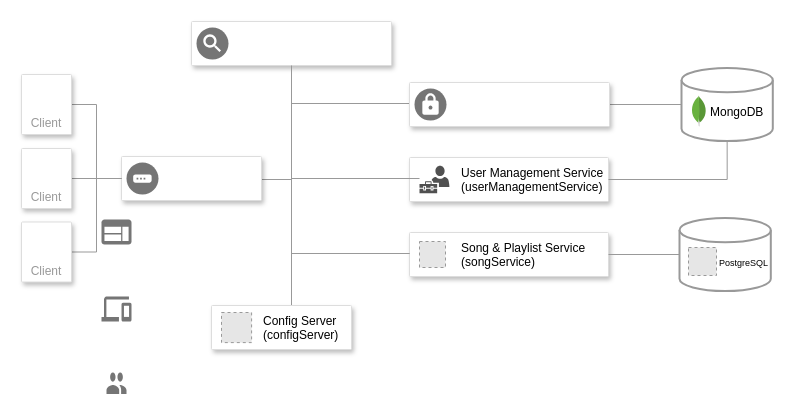
The diagram is 791 pixels wide and 412 high, and some of its shapes have lost their labels. Grey dashed boxes stand in for pictures. The centre of each missing label's shape, as x and y in pixels:
"API Gateway (zuulGateway)" belongs at (192,180).
"Authentication Service (authService)" belongs at (510,106).
"Service Registry/Discovery (discoveryServer)" belongs at (292,44).
